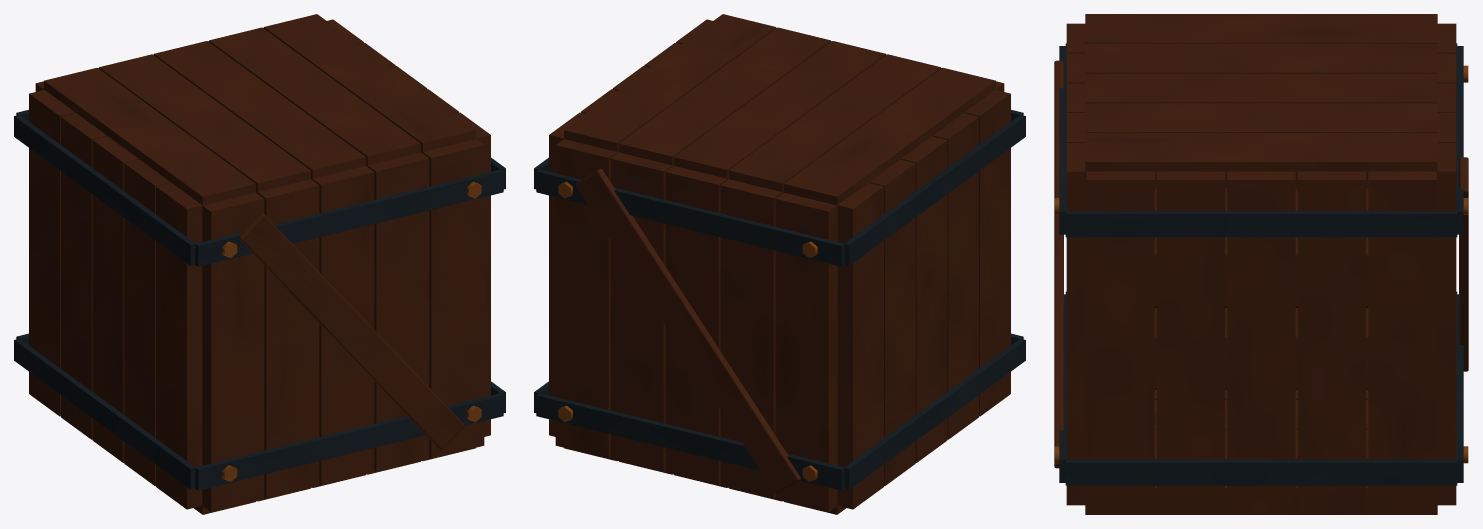
File: wooden_crate.glb
3 views of the same model, side by side, from view 1: azimuth 30°, elevation 25°; view 2: azimuth 150°, elevation 25°; view 3: azimuth 270°, elevation 25° (orthographic). The views are drawn at different scales.
Visible parts, largest first — view 1: whole; view 2: whole; view 3: whole, debris_3, debris_6.
Boxes of the visible parts, left/top/right/bottom form: whole: left=14, top=14, right=505, bottom=514; whole: left=534, top=14, right=1025, bottom=514; whole: left=1054, top=14, right=1468, bottom=514; debris_3: left=1154, top=308, right=1368, bottom=389; debris_6: left=1154, top=237, right=1368, bottom=307.
Size of the model in its own units: 1.03 by 0.995 by 1.06.
3 materials, 3 textured.
